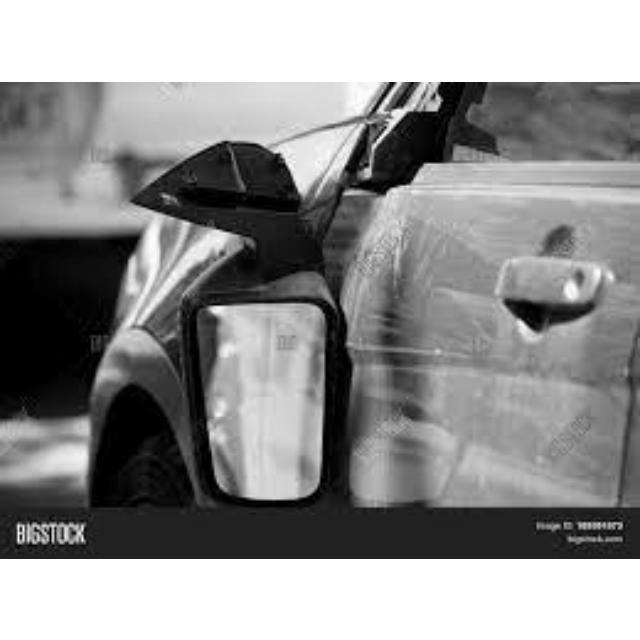Sidemirror-Damage: (139, 118, 340, 506)
